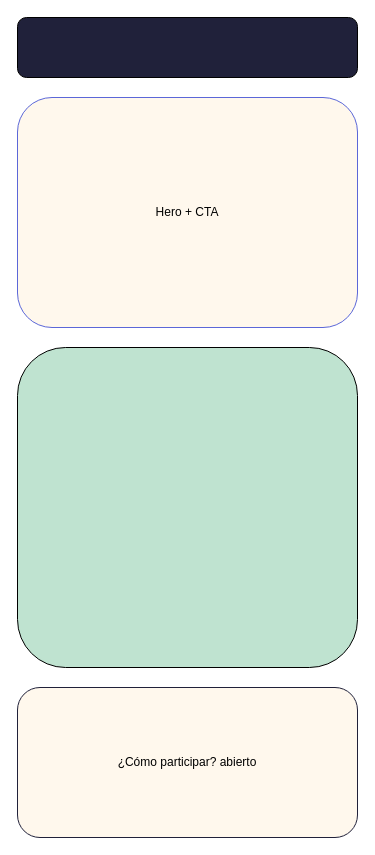
Some shapes in this 375 by 855 pixel diagram are drawn without their labels. Each missing label, with the box of its shape:
Tres actividades apiladas: (16, 346, 358, 668)
ÓRBITA DE IDEAS: (16, 16, 358, 78)
